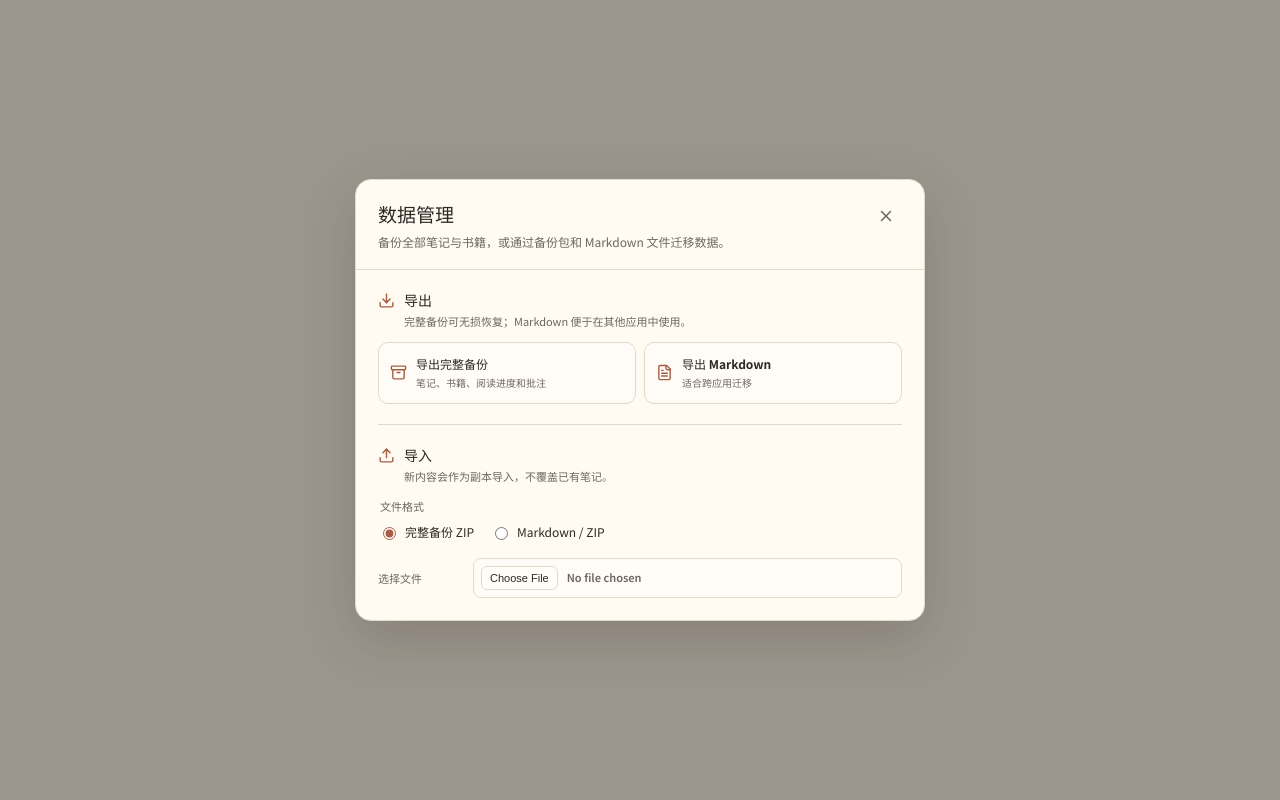
DataManagementDialog › 呈现导出错误并允许用户重试
This screenshot has width=1280, height=800.
Click the button "导出完整备份 笔记、书籍、阅读进度和批注".
click(507, 373)  # box [378, 342, 636, 404]
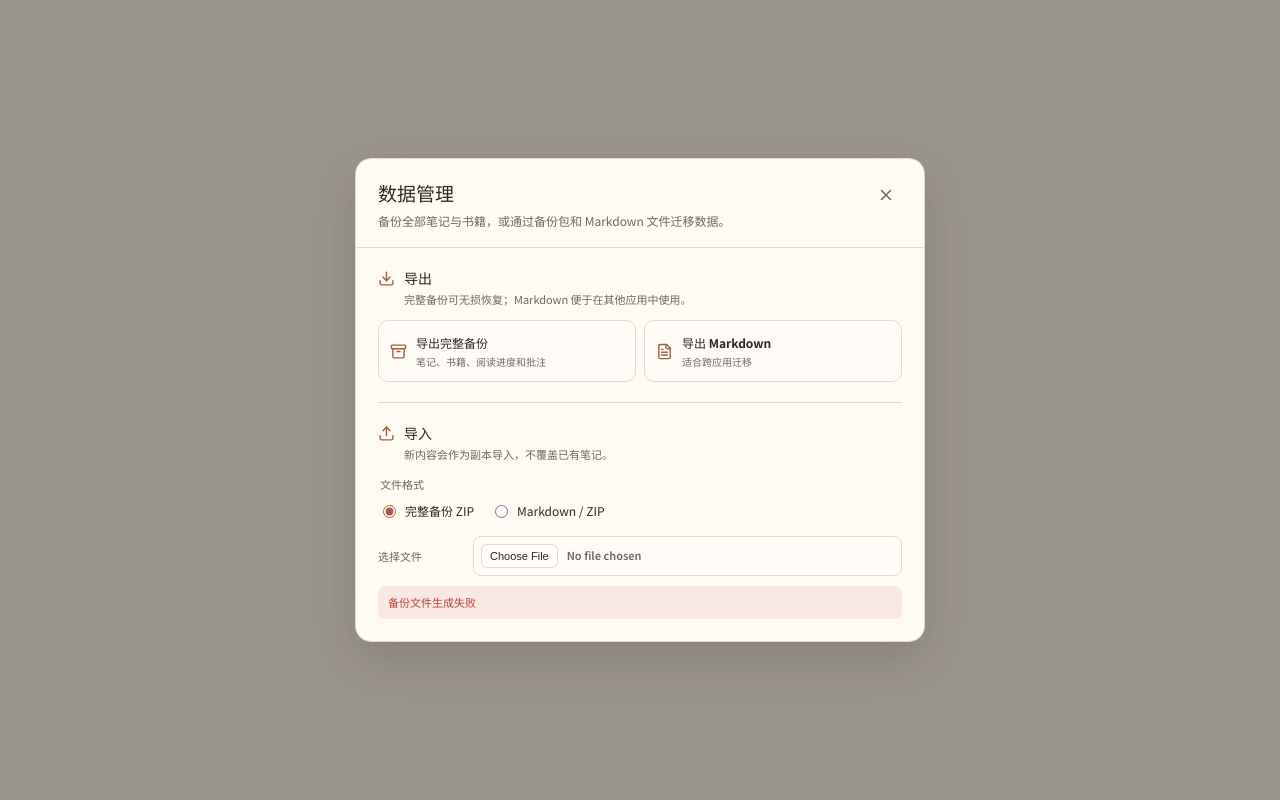
Expected: the button "导出完整备份 笔记、书籍、阅读进度和批注" is enabled, [378, 320, 636, 382]
Expected: the message reads "备份文件生成失败", [388, 594, 476, 610]
